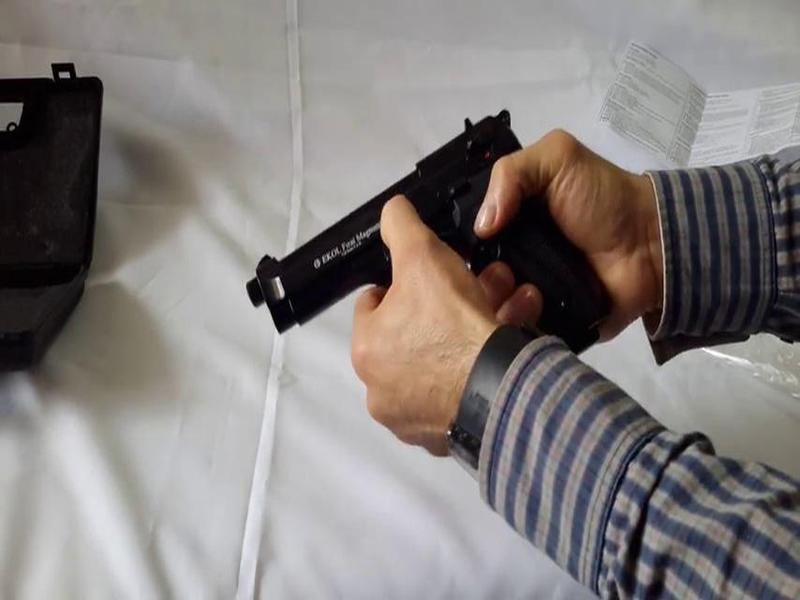Pistola: (217, 109, 586, 375)
